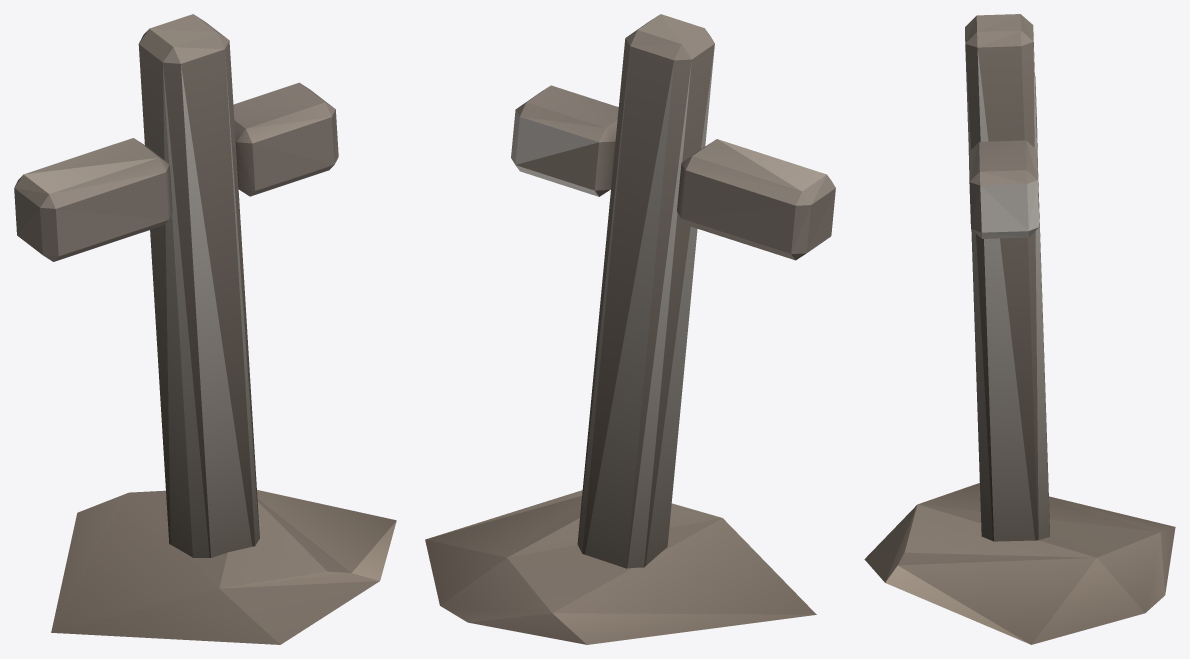
File: ash_marker.glb
The picture shows the model from 3 angles, left to right: view 1: azimuth 30°, elevation 25°; view 2: azimuth 150°, elevation 25°; view 3: azimuth 270°, elevation 25°; orthographic projection. The views are drawn at different scales.
Parts seen in each view (by area): view 1: ca_ash_marker; view 2: ca_ash_marker; view 3: ca_ash_marker.
Part boxes in pixels (x1,y1,x2,y2): ca_ash_marker: [14, 14, 396, 644]; ca_ash_marker: [425, 14, 835, 644]; ca_ash_marker: [864, 14, 1175, 644].
Size of the model in its own units: 0.8452 by 1.2 by 0.6366.
Materials: 1 (1 with a texture image).
